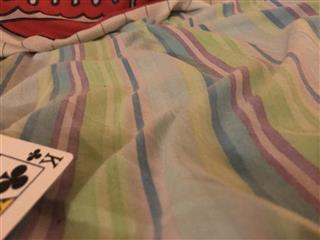KingOfClubs: (1, 133, 74, 240)
